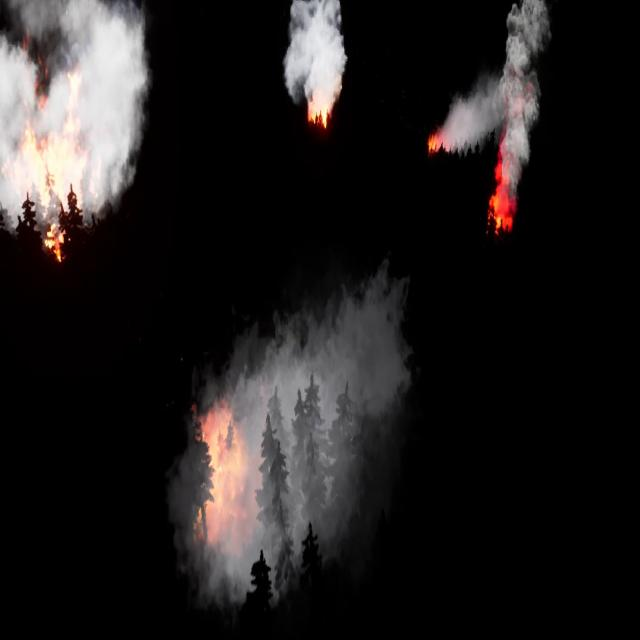fire: (7, 64, 92, 268), (186, 401, 268, 541), (489, 171, 516, 246), (300, 86, 338, 126), (430, 131, 450, 157)
smoke: (167, 253, 415, 620), (0, 0, 151, 217), (434, 0, 550, 191), (280, 0, 349, 104)
